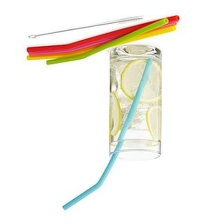drinking_straw: (59, 54, 155, 216)
glass: (104, 40, 167, 165)
